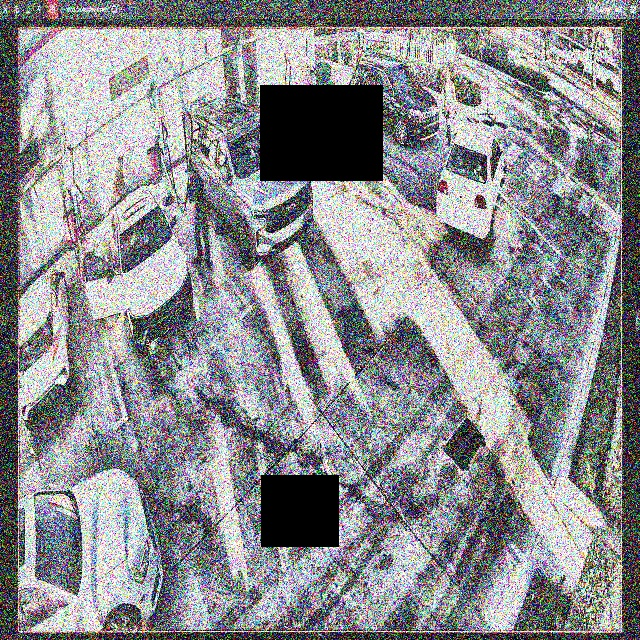Car: (185, 97, 313, 267), (84, 181, 188, 345), (435, 123, 501, 237)
